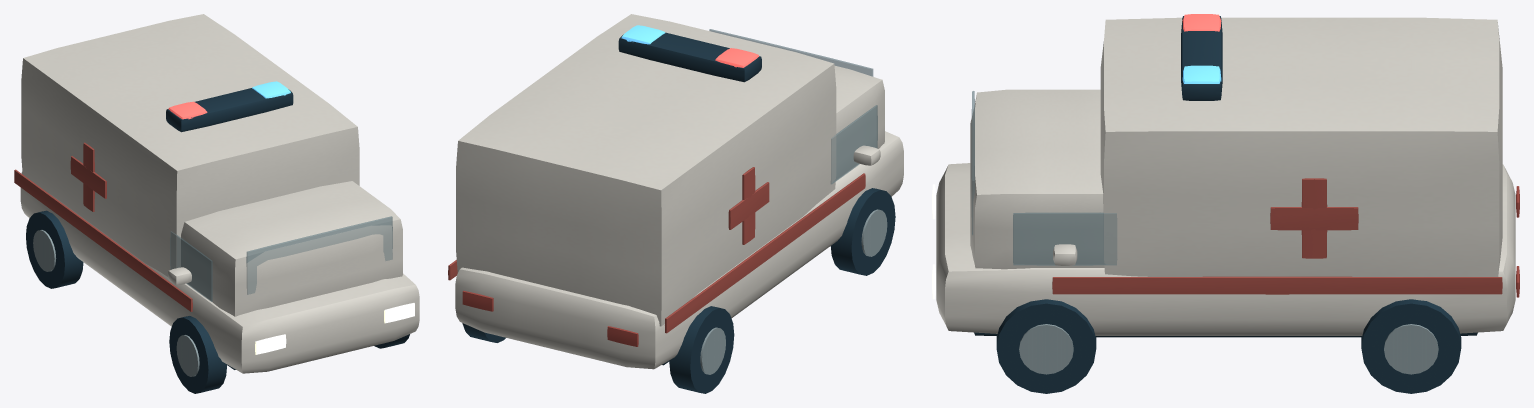
Rendered from ambulance.glb.
The picture shows the model from 3 angles, left to right: view 1: azimuth 30°, elevation 25°; view 2: azimuth 150°, elevation 25°; view 3: azimuth 270°, elevation 25°; orthographic projection. The views are drawn at different scales.
Visible parts, largest first — view 1: ambulance; view 2: ambulance; view 3: ambulance.
Boxes of the visible parts, left/top/right/bottom form: ambulance: left=14, top=14, right=419, bottom=393; ambulance: left=448, top=14, right=903, bottom=393; ambulance: left=932, top=14, right=1519, bottom=393.
Bounding box in the file's own units: 2.05 × 1.95 × 3.66.
Materials: 30 (30 with a texture image).
